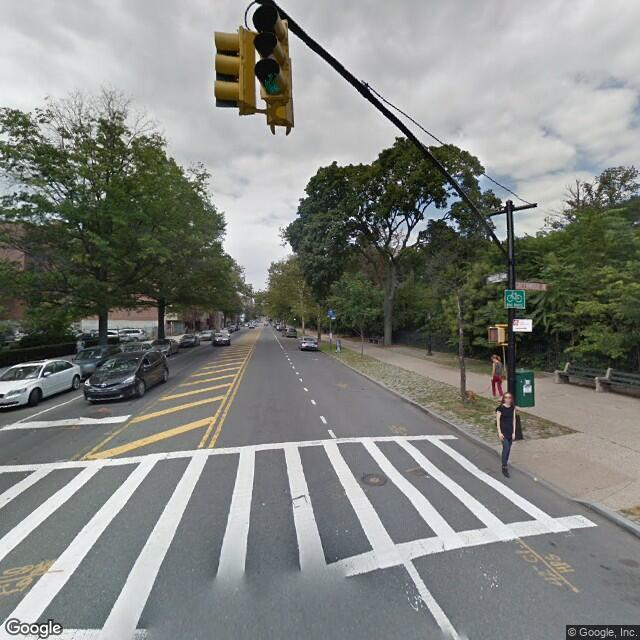litter: (310, 355, 325, 364), (530, 477, 541, 482)
